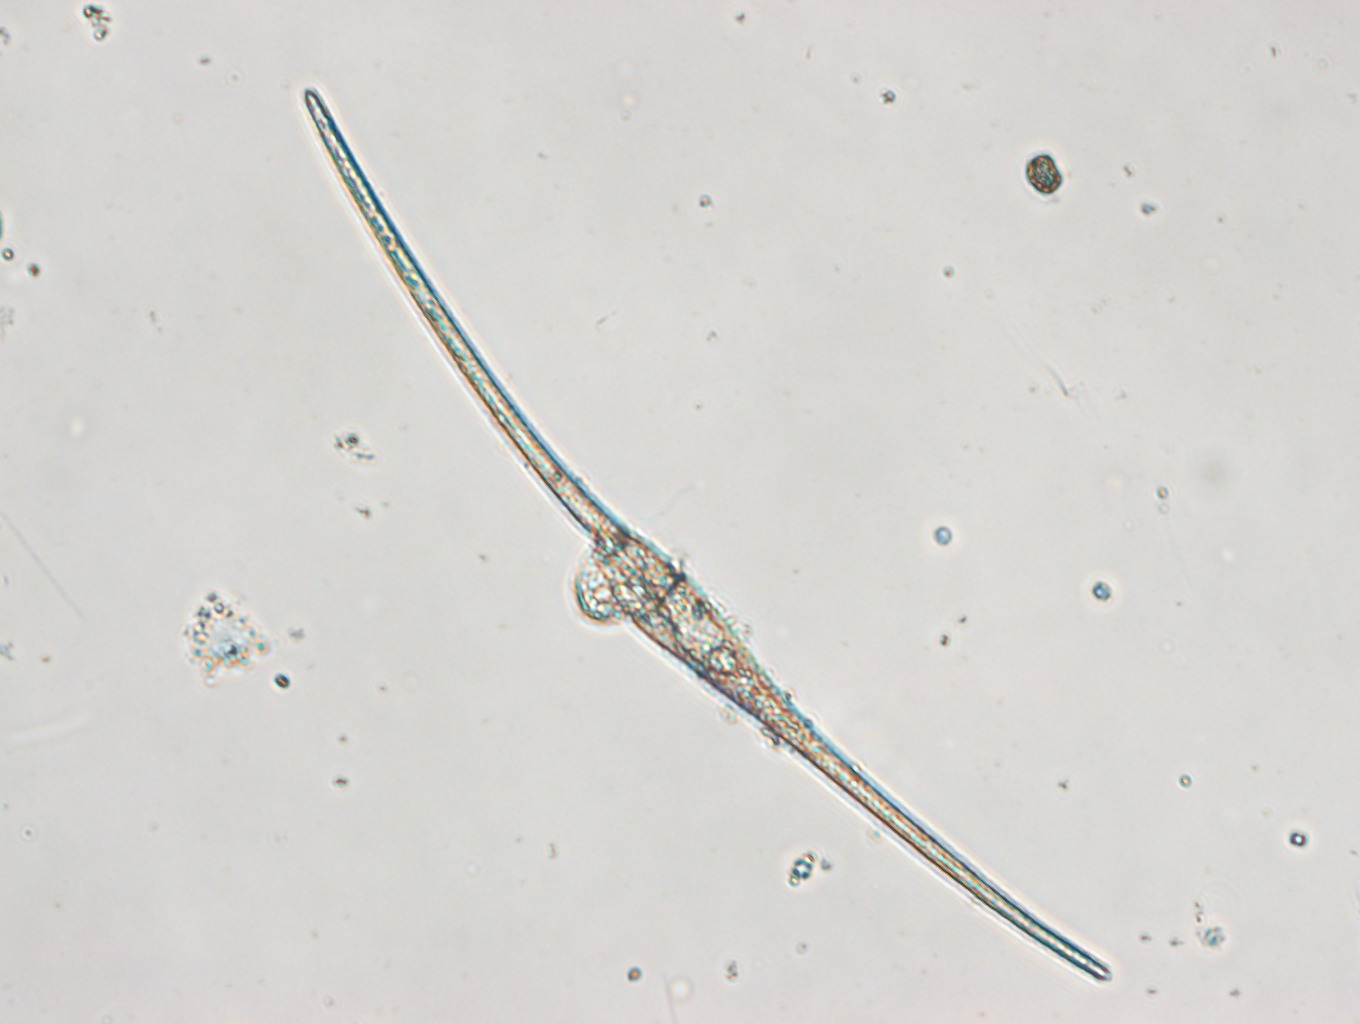ceratium fusus: (300, 88, 1107, 983)
